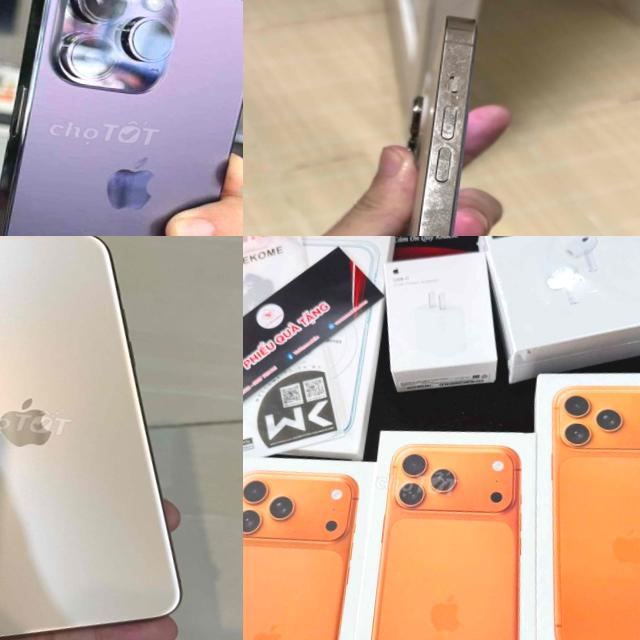gen_11: (0, 236, 219, 640)
gen_14: (0, 0, 243, 236), (348, 0, 500, 236)
gen_17: (355, 436, 553, 640)
